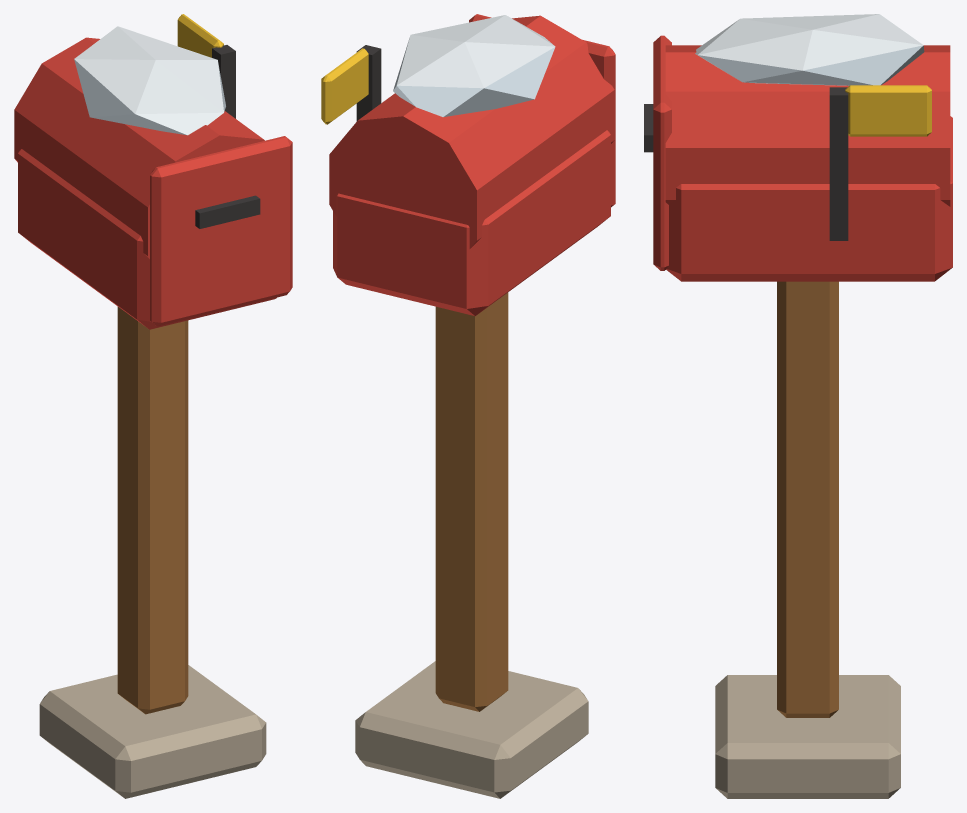
Rendered from mailbox.glb.
The picture shows the model from 3 angles, left to right: view 1: azimuth 30°, elevation 25°; view 2: azimuth 150°, elevation 25°; view 3: azimuth 270°, elevation 25°; orthographic projection. The views are drawn at different scales.
Parts seen in each view (by area): view 1: mailbox, part_lid; view 2: mailbox, part_lid; view 3: mailbox, part_lid.
Part boxes in pixels (bbox=[...]): mailbox: bbox=[14, 14, 276, 798]; part_lid: bbox=[150, 136, 292, 326]; mailbox: bbox=[321, 15, 614, 798]; part_lid: bbox=[469, 14, 615, 207]; mailbox: bbox=[665, 14, 952, 798]; part_lid: bbox=[644, 35, 671, 270].
Bounding box in the file's own units: 0.335 × 1.31 × 0.499.
